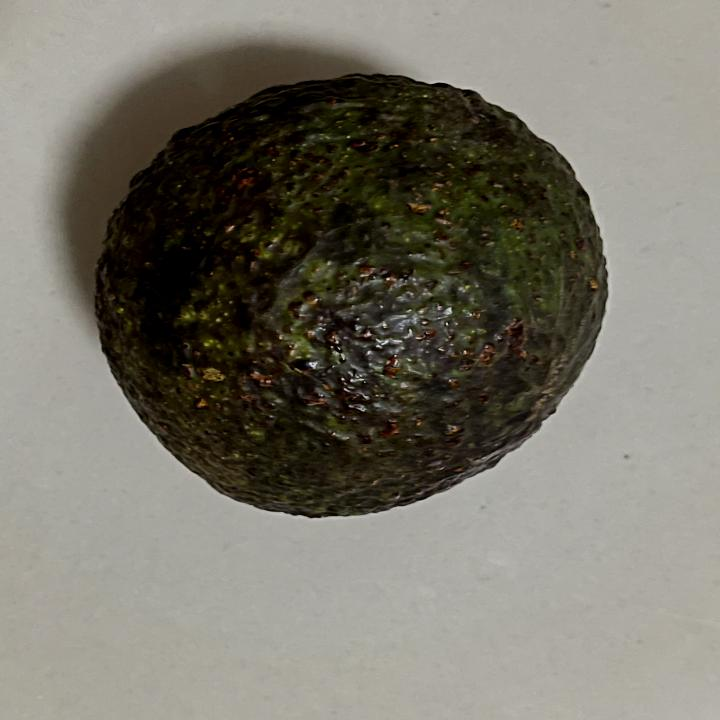Level1: (81, 65, 628, 532)
